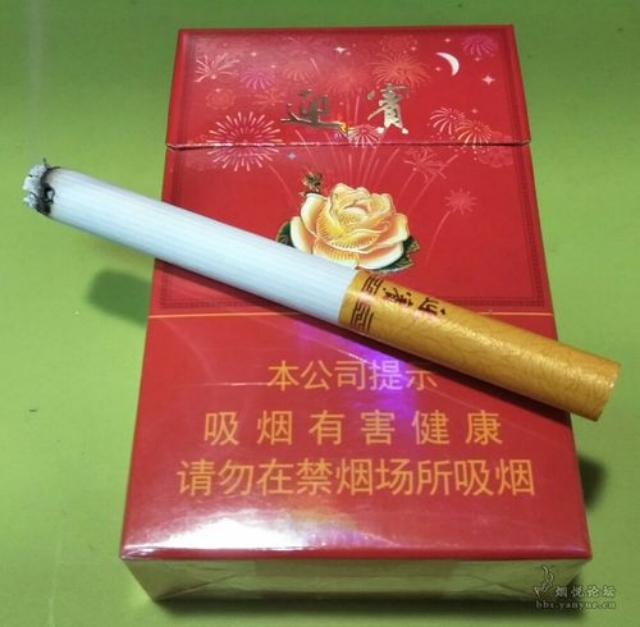Cigarette: (22, 156, 624, 422)
